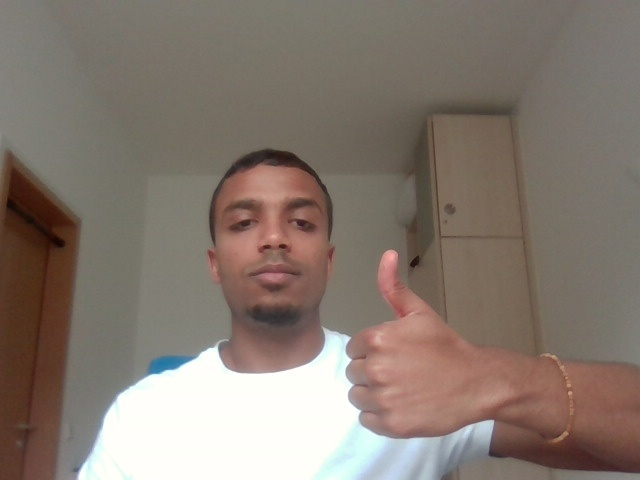yes: (339, 244, 529, 453)
